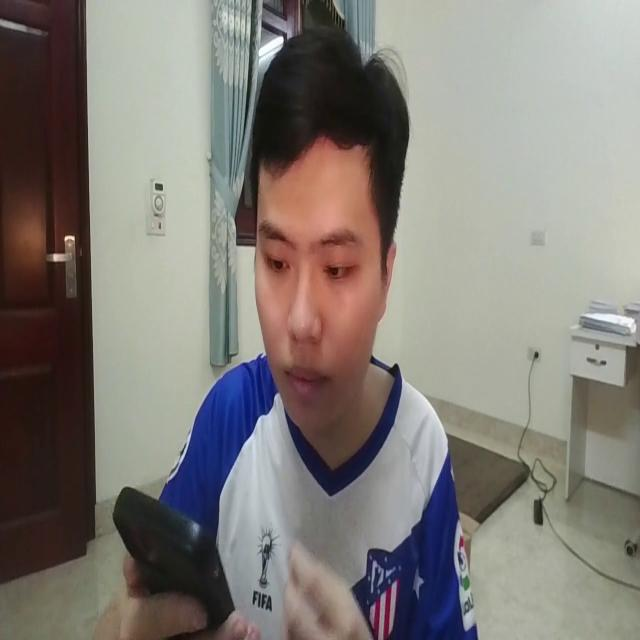phone: (108, 450, 258, 640)
student: (103, 26, 493, 640)
